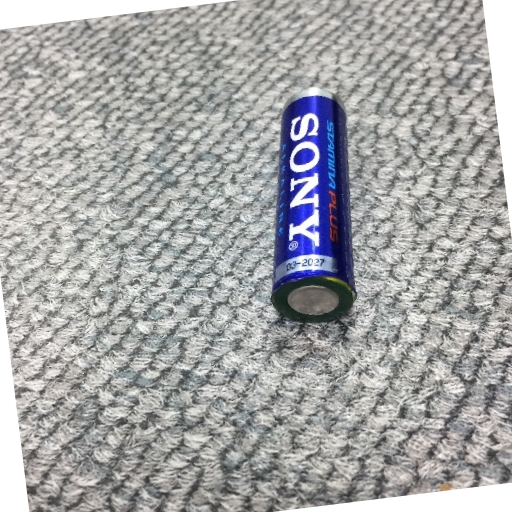Battery_0: (268, 80, 380, 348)
